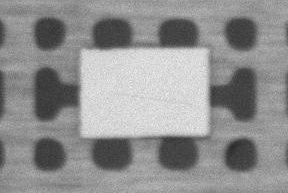DIE_CRACK: (170, 62, 285, 70)
